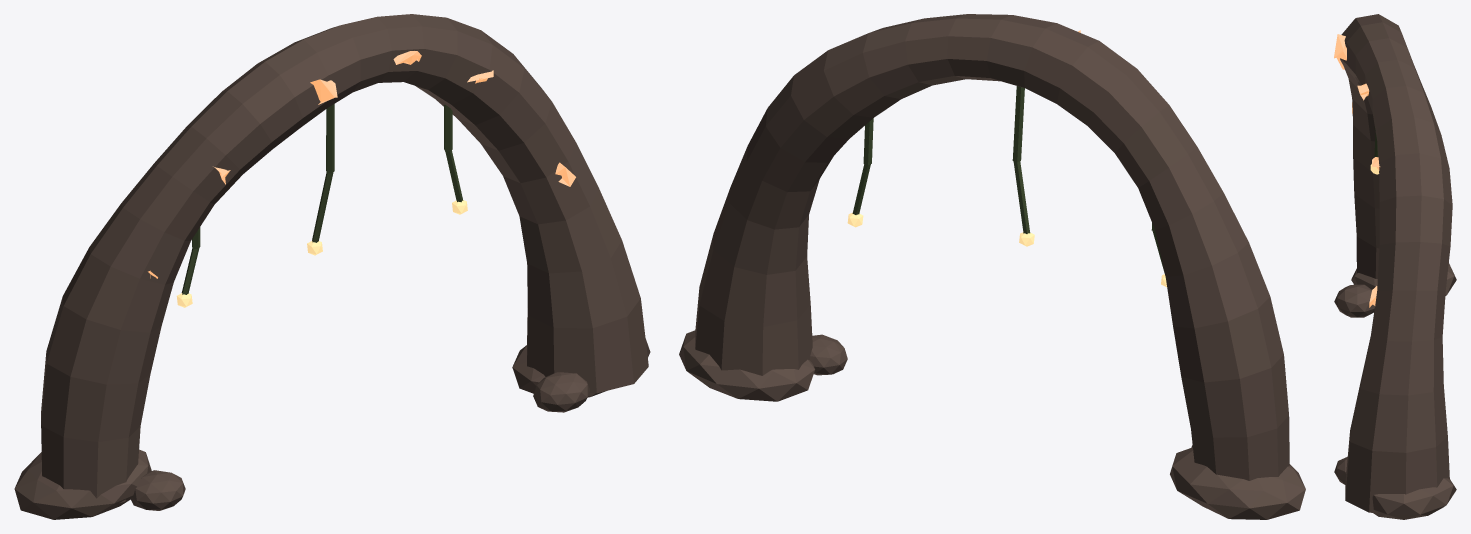
File: Ember_GladeArch.glb
3 views of the same model, side by side, from view 1: azimuth 30°, elevation 25°; view 2: azimuth 150°, elevation 25°; view 3: azimuth 270°, elevation 25° (orthographic). The views are drawn at different scales.
Parts seen in each view (by area): view 1: SoulArch_Rib, SoulArch_Vines, SoulArch_Lichen; view 2: SoulArch_Rib, SoulArch_Vines; view 3: SoulArch_Rib, SoulArch_Lichen.
Boxes of the visible parts, x1=… form: SoulArch_Rib: x1=14, y1=14, x2=650, y2=519; SoulArch_Vines: x1=181, y1=104, x2=463, y2=294; SoulArch_Lichen: x1=148, y1=51, x2=575, y2=278; SoulArch_Rib: x1=679, y1=14, x2=1305, y2=519; SoulArch_Vines: x1=852, y1=86, x2=1164, y2=273; SoulArch_Rib: x1=1334, y1=14, x2=1456, y2=519; SoulArch_Lichen: x1=1334, y1=34, x2=1380, y2=307.
Size of the model in its own units: 8 by 5.26 by 1.58.
